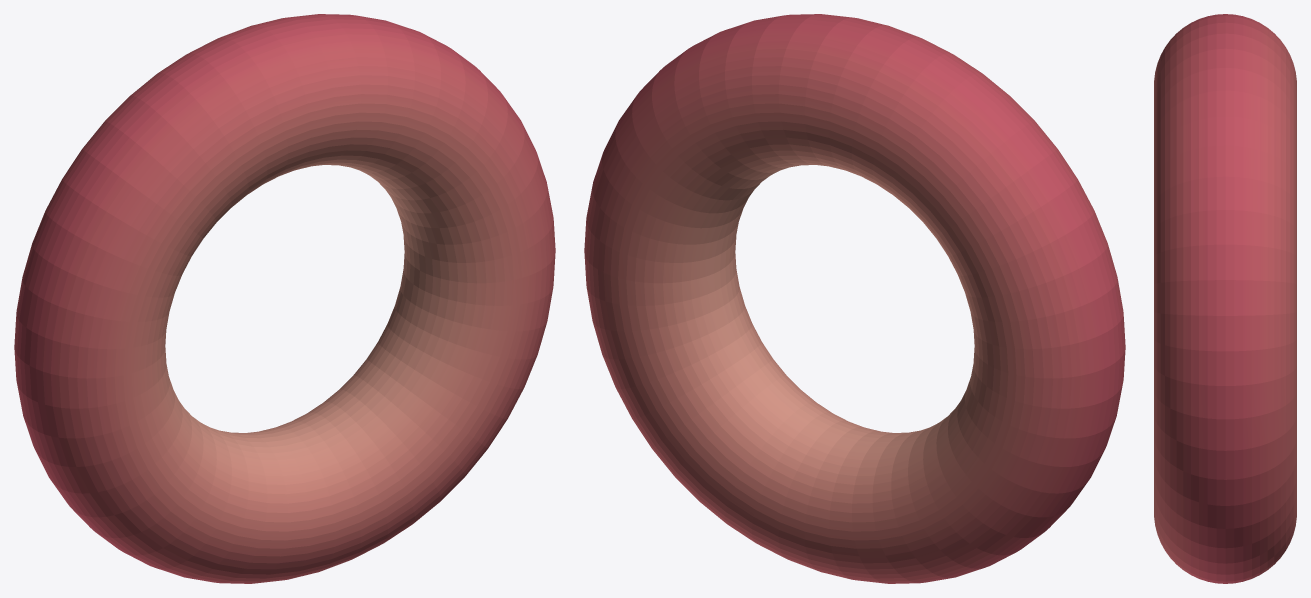
3 views of the same model, side by side, from view 1: azimuth 30°, elevation 25°; view 2: azimuth 150°, elevation 25°; view 3: azimuth 270°, elevation 25° (orthographic). The views are drawn at different scales.
Parts seen in each view (by area): view 1: world; view 2: world; view 3: world.
Part boxes in pixels (box(x1,y1,x2,y2)): world: box(14, 14, 555, 583); world: box(584, 14, 1125, 583); world: box(1154, 14, 1296, 583).
Size of the model in its own units: 30.27 by 30.21 by 7.59.
